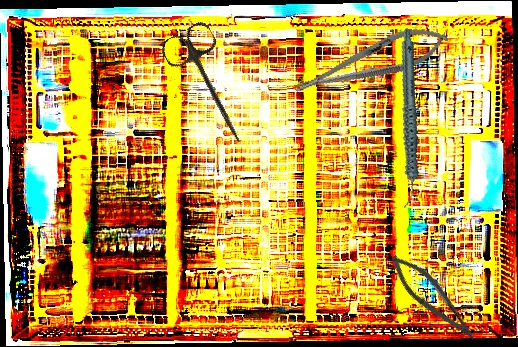Handpiece: (367, 27, 449, 210)
Iris Scissors: (158, 18, 265, 155)
Micro Scissor: (381, 248, 487, 347)
Needle Holder: (289, 17, 453, 106)
